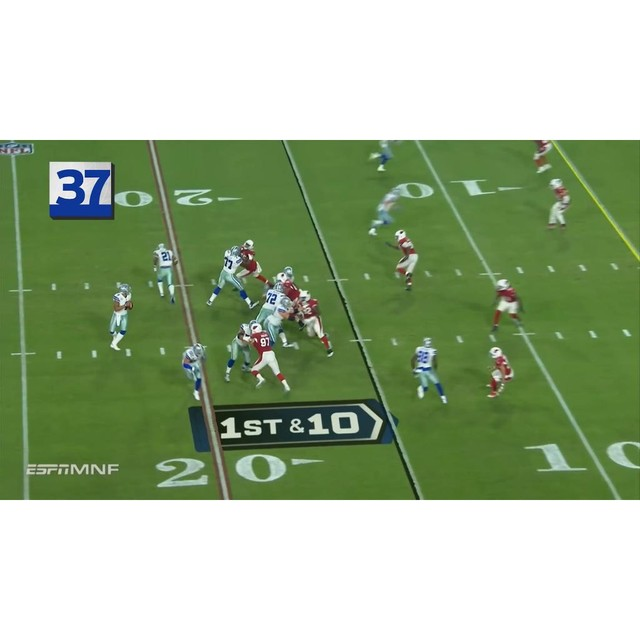american-football-player: (249, 323, 292, 393), (206, 247, 253, 309), (295, 290, 334, 357), (410, 337, 448, 403), (385, 230, 420, 292), (222, 323, 255, 383), (235, 239, 272, 291), (368, 186, 403, 237), (107, 284, 134, 350), (263, 297, 297, 349), (490, 279, 524, 331), (152, 242, 178, 305), (485, 346, 514, 398), (181, 343, 207, 400), (545, 177, 571, 232), (366, 141, 397, 173), (531, 140, 554, 173)
